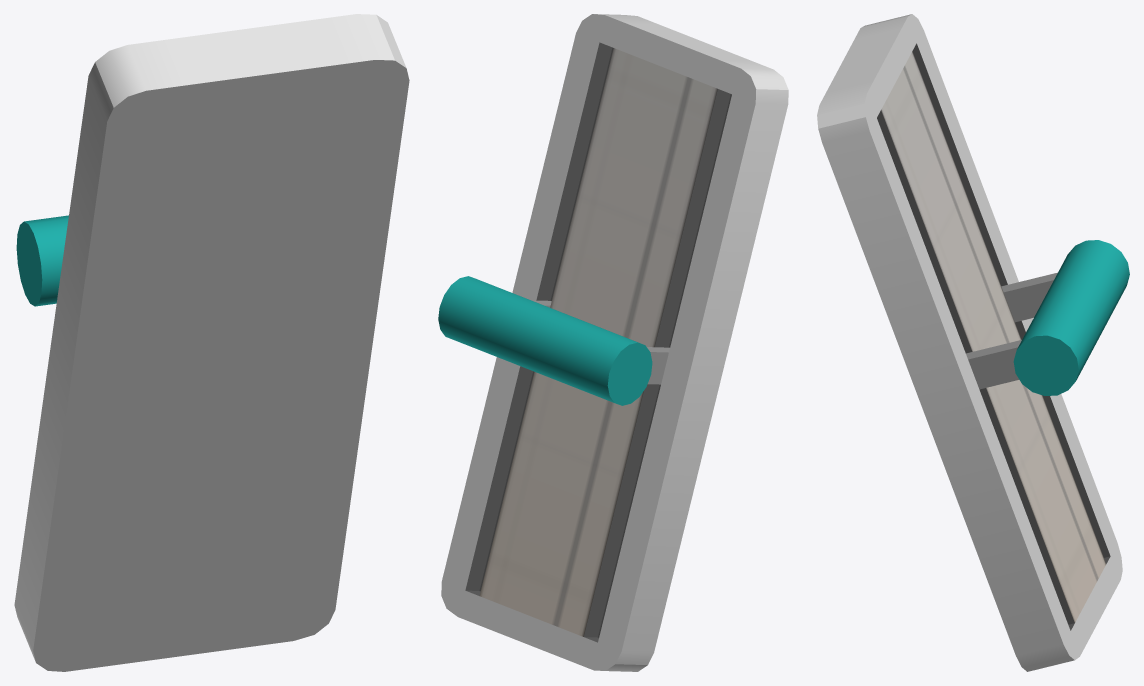
Rendered from SM_Speed.fbx.
The picture shows the model from 3 angles, left to right: view 1: azimuth 30°, elevation 25°; view 2: azimuth 150°, elevation 25°; view 3: azimuth 270°, elevation 25°; orthographic projection. The views are drawn at different scales.
Parts seen in each view (by area): view 1: Speed, SpeedHandle; view 2: Speed, SpeedHandle, Connectors; view 3: Speed, SpeedHandle, Connectors.
Part boxes in pixels (x1,y1,x2,y2): Speed: [14, 14, 409, 671]; SpeedHandle: [16, 215, 68, 306]; Speed: [441, 14, 788, 671]; SpeedHandle: [438, 276, 652, 405]; Connectors: [531, 300, 669, 384]; Speed: [817, 14, 1122, 671]; SpeedHandle: [1013, 240, 1129, 395]; Connectors: [966, 272, 1057, 389].
Size of the model in its own units: 0.3738 by 0.776 by 0.3936.
2 materials, 2 textured.
